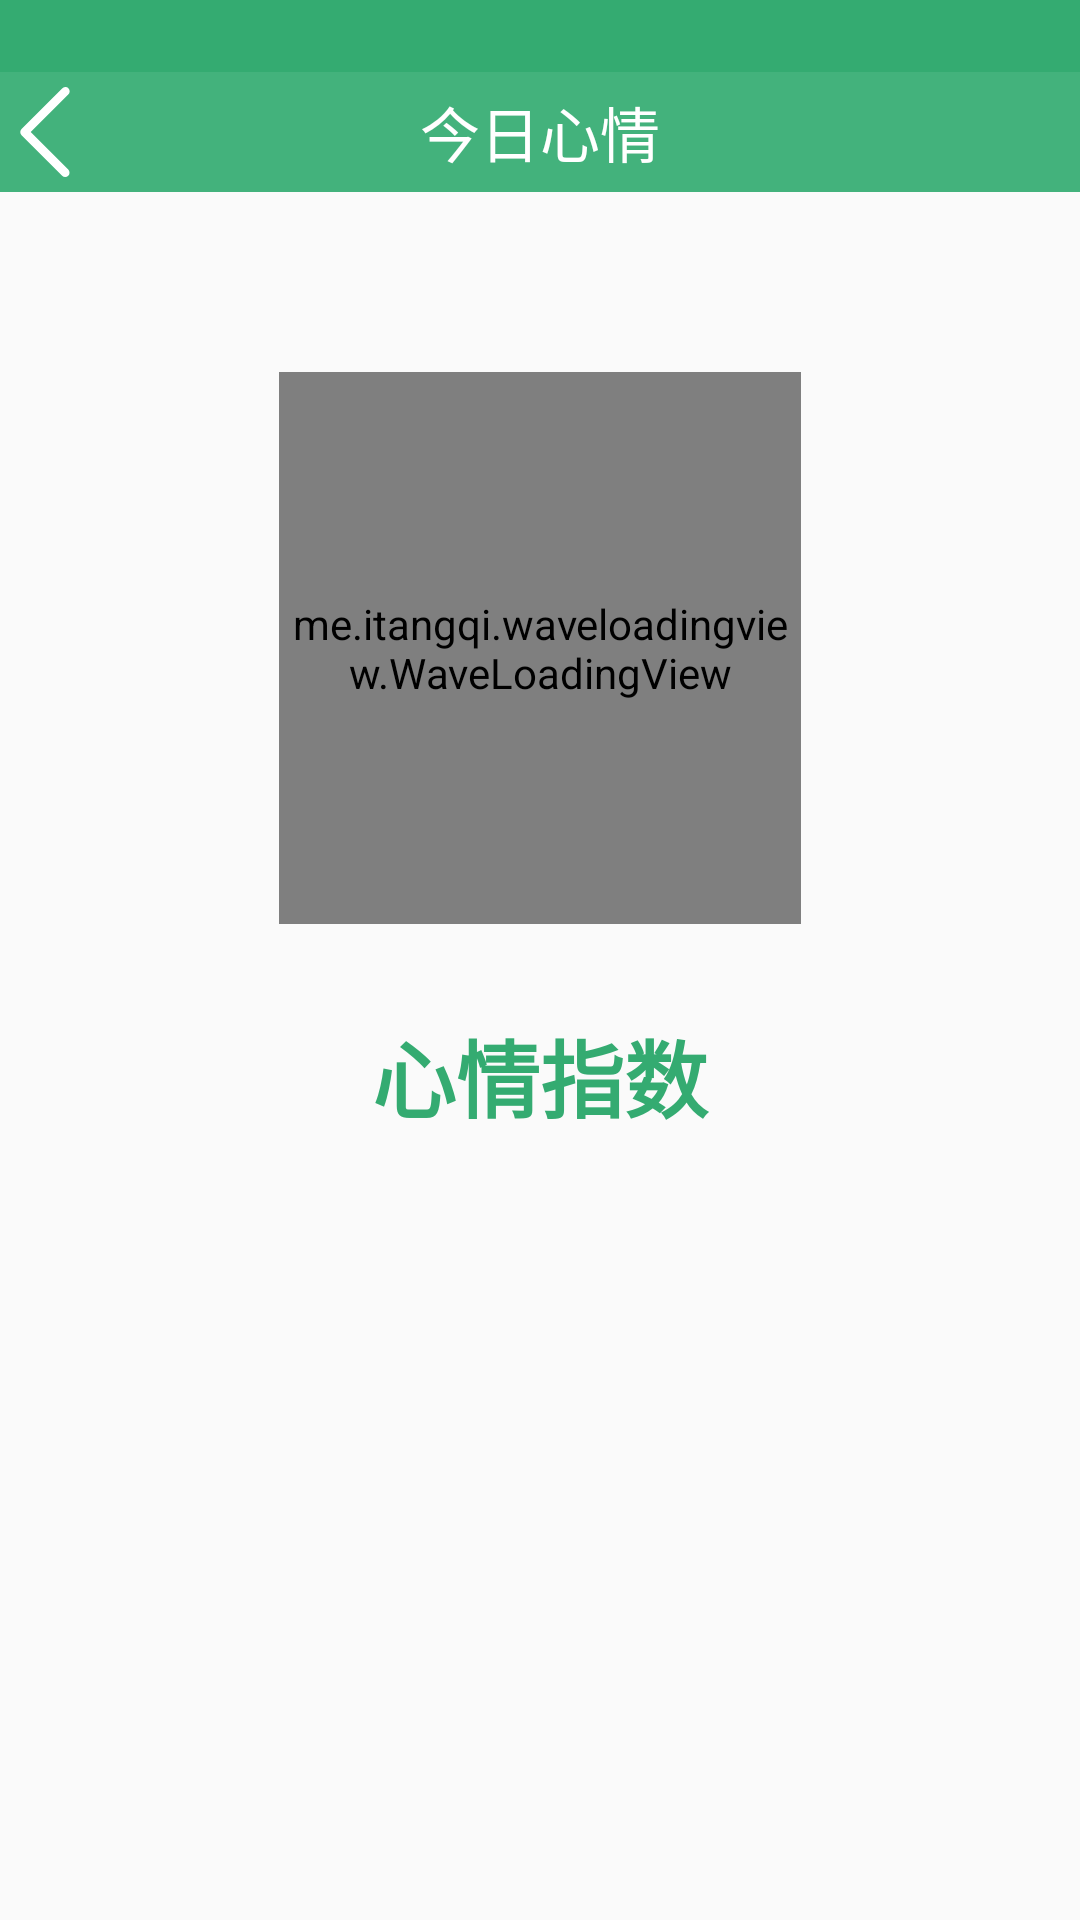

Icon bounding boxes for this 1080 x 1920 phone screenshot, format (x1, y1, x2, y2):
backbutton: (20, 87, 70, 177)
